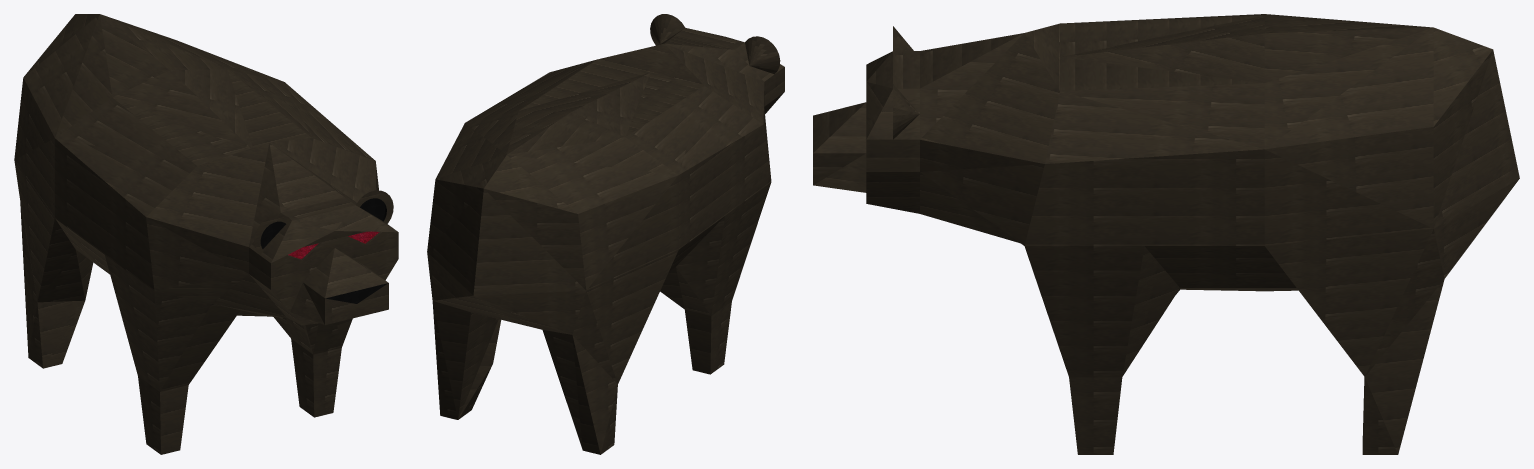
File: medved.obj
3 renders of one model, left to right at view 1: azimuth 30°, elevation 25°; view 2: azimuth 150°, elevation 25°; view 3: azimuth 270°, elevation 25°, orthographic. The views are drawn at different scales.
Parts seen in each view (by area): view 1: medved_Main-Material3, medved_Main-Material2, medved_Main-Material1; view 2: medved_Main-Material3; view 3: medved_Main-Material3.
Boxes of the visible parts, bbox=[...] form: medved_Main-Material3: bbox=[14, 14, 398, 454]; medved_Main-Material2: bbox=[260, 198, 388, 303]; medved_Main-Material1: bbox=[288, 231, 379, 259]; medved_Main-Material3: bbox=[427, 14, 784, 454]; medved_Main-Material3: bbox=[813, 14, 1519, 454].
Bounding box in the file's own units: 0.9 × 1.17 × 1.99.
4 materials, 3 textured.
